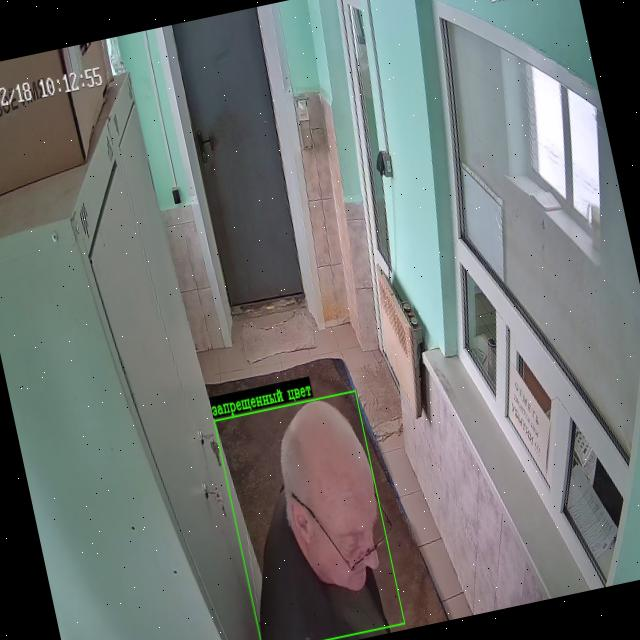Person: (260, 400, 387, 640)
